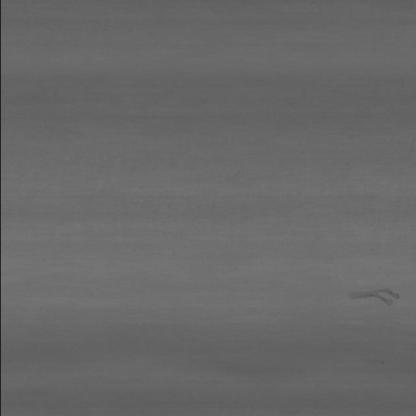water_spot: (346, 278, 404, 309)
